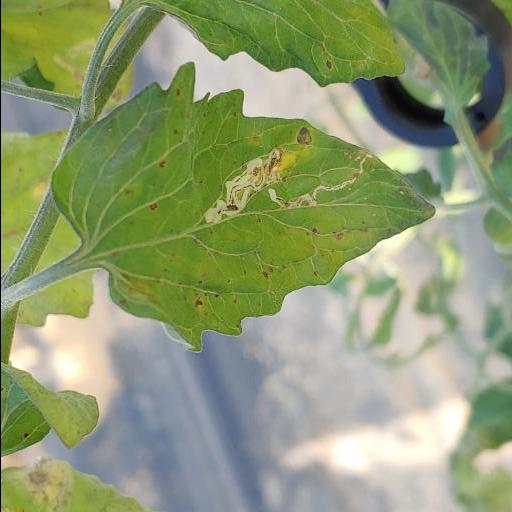disease_tomato: (48, 60, 436, 355)
